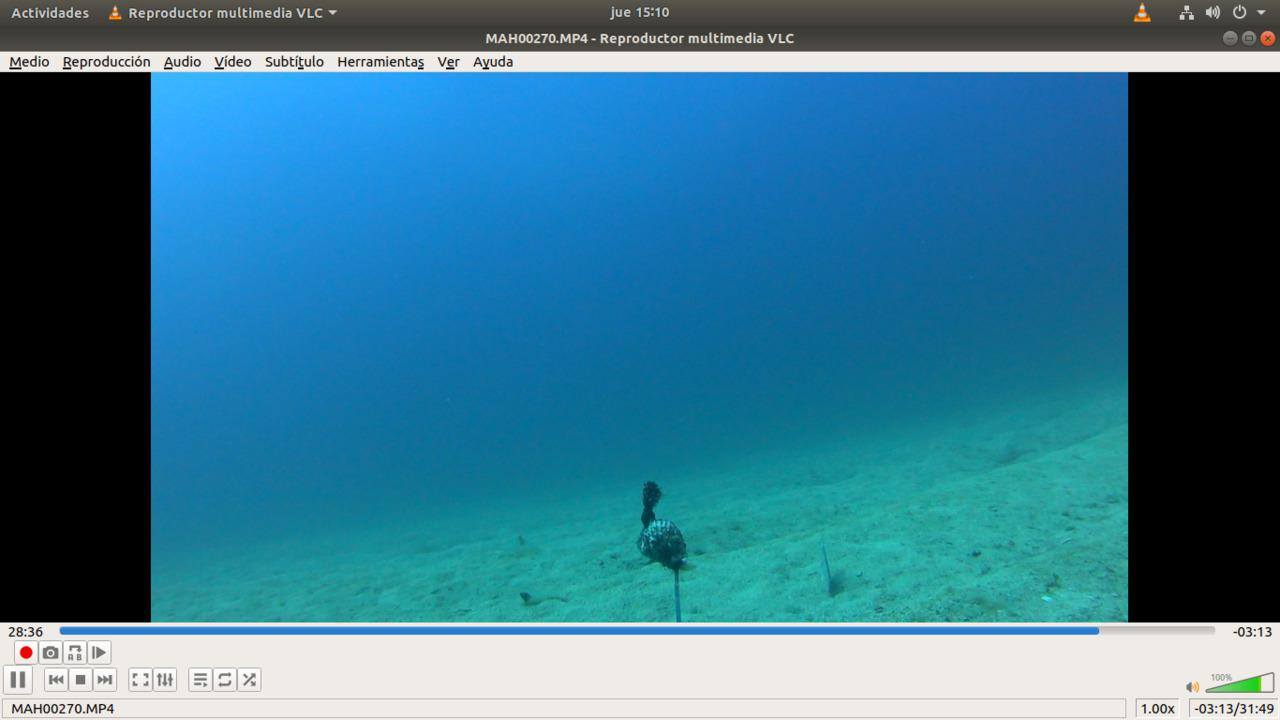raor: (807, 534, 852, 602)
